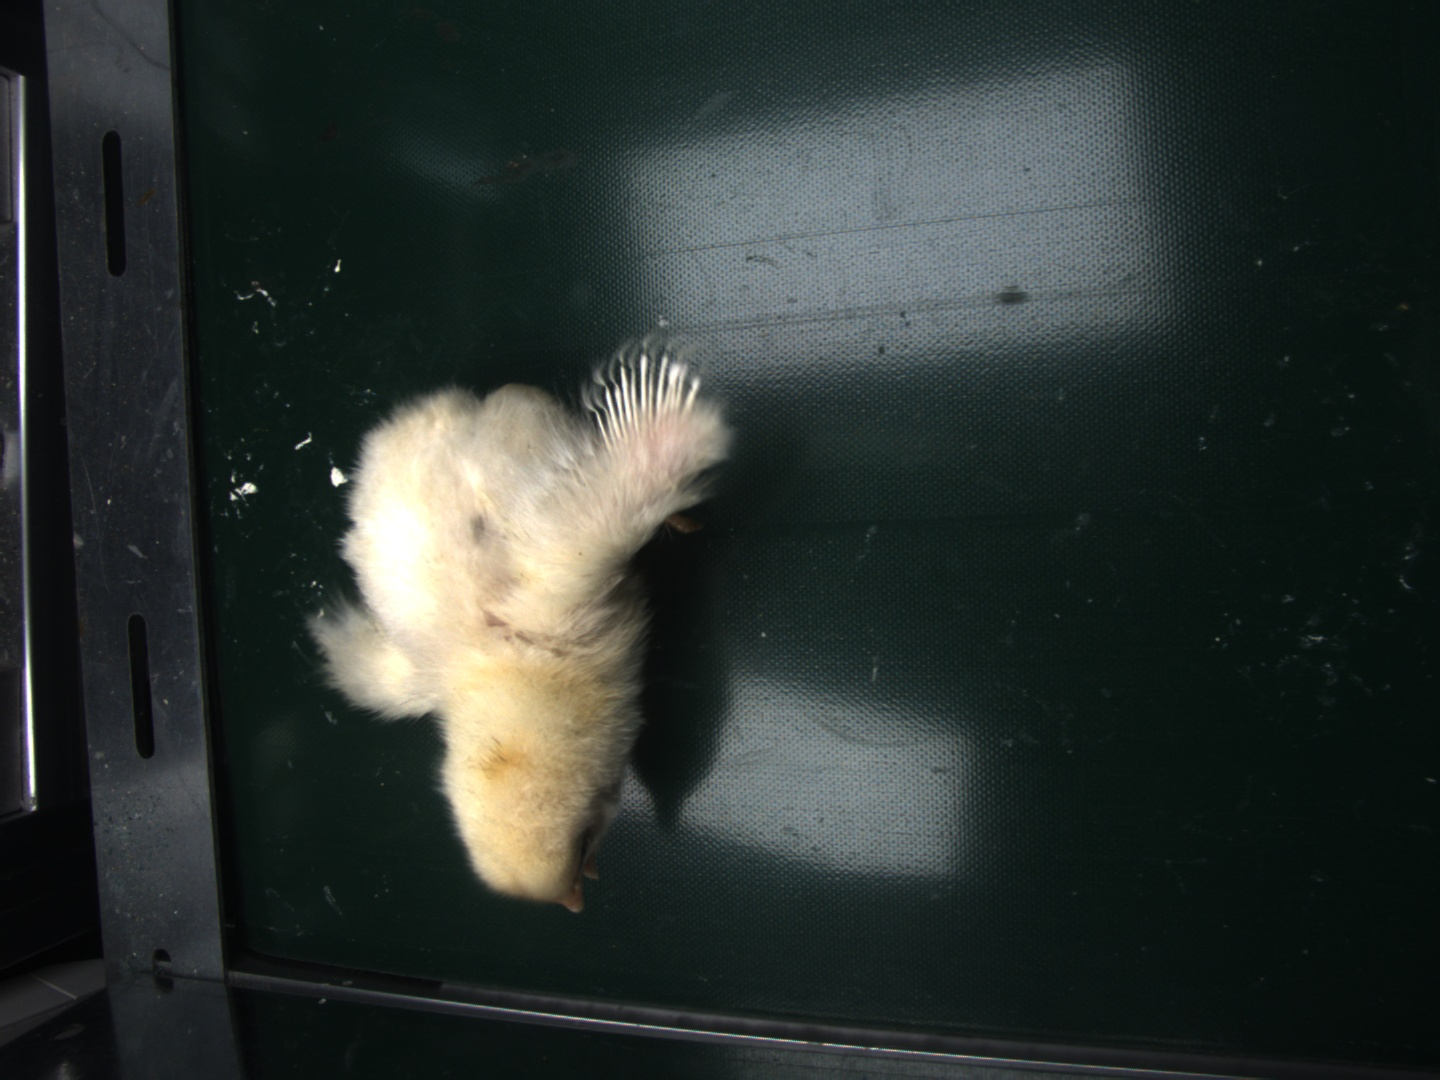male: (593, 348, 704, 440)
